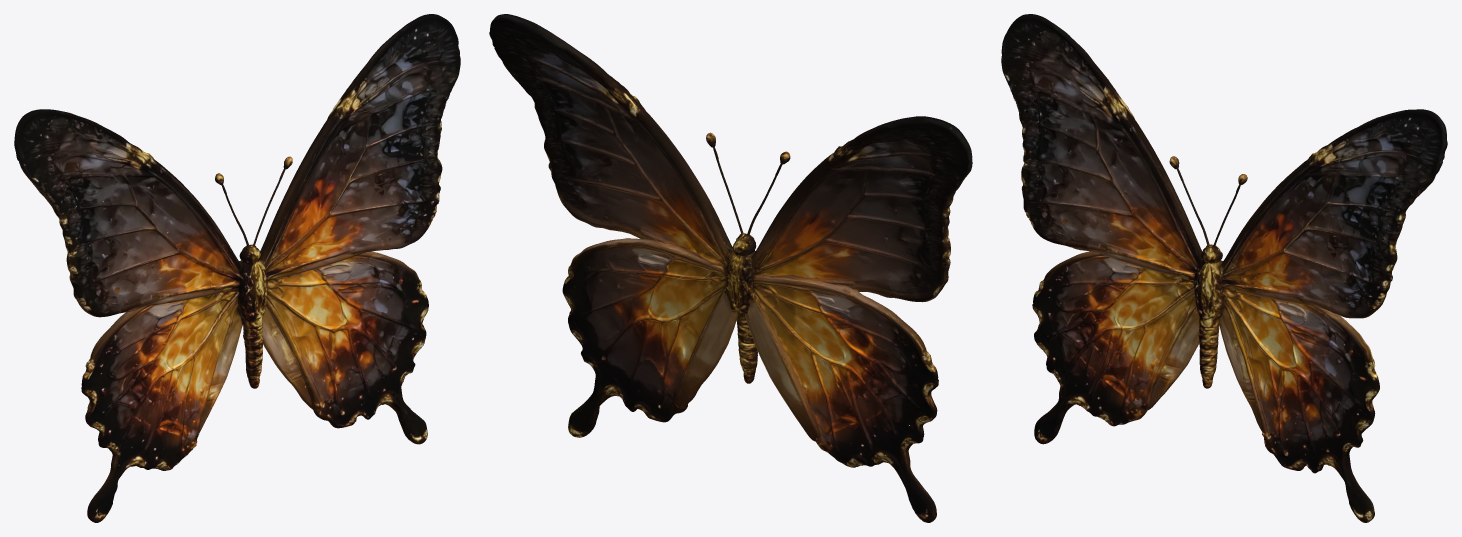
The model's file is mariposa-butterfly-clone1.glb.
The picture shows the model from 3 angles, left to right: view 1: azimuth 30°, elevation 25°; view 2: azimuth 150°, elevation 25°; view 3: azimuth 330°, elevation 25°; orthographic projection. The views are drawn at different scales.
Visible parts, largest first — view 1: tripo_node_69466f59-46bf-4264-a20b-3b2fc7ee4bbf; view 2: tripo_node_69466f59-46bf-4264-a20b-3b2fc7ee4bbf; view 3: tripo_node_69466f59-46bf-4264-a20b-3b2fc7ee4bbf.
Boxes of the visible parts, x1,y1,x2,y2 form: tripo_node_69466f59-46bf-4264-a20b-3b2fc7ee4bbf: [14, 14, 460, 522]; tripo_node_69466f59-46bf-4264-a20b-3b2fc7ee4bbf: [489, 14, 972, 522]; tripo_node_69466f59-46bf-4264-a20b-3b2fc7ee4bbf: [1001, 14, 1447, 522].
Bounding box in the file's own units: 0.9787 × 0.8481 × 0.1221.
1 material, 1 textured.
